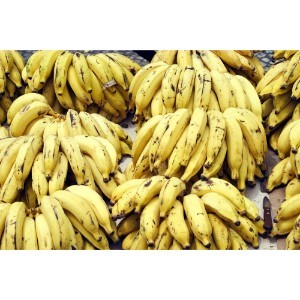banana_brain food: (141, 77, 259, 235)
